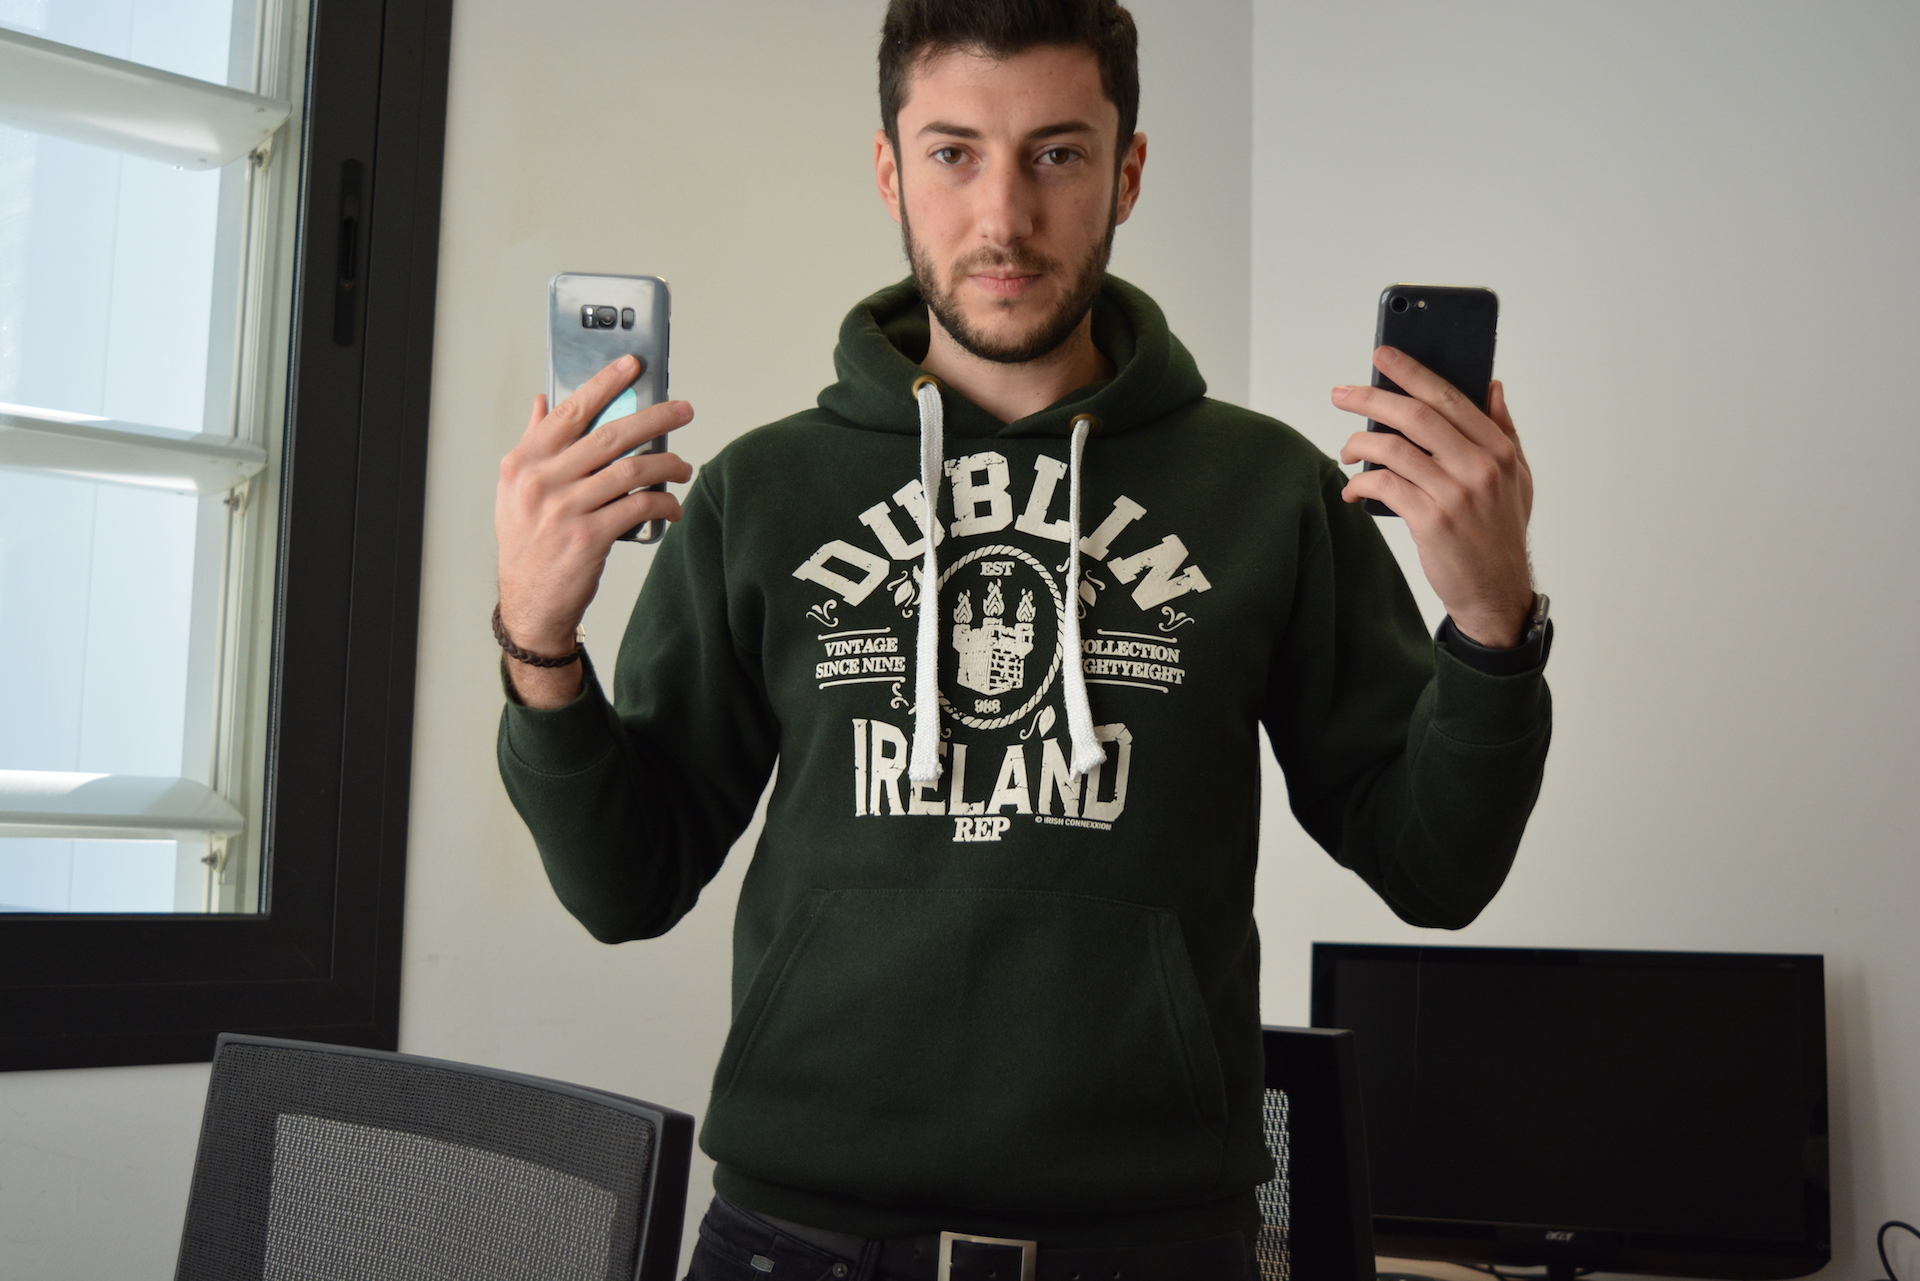smartphone: (546, 269, 673, 545), (1360, 279, 1503, 519)
